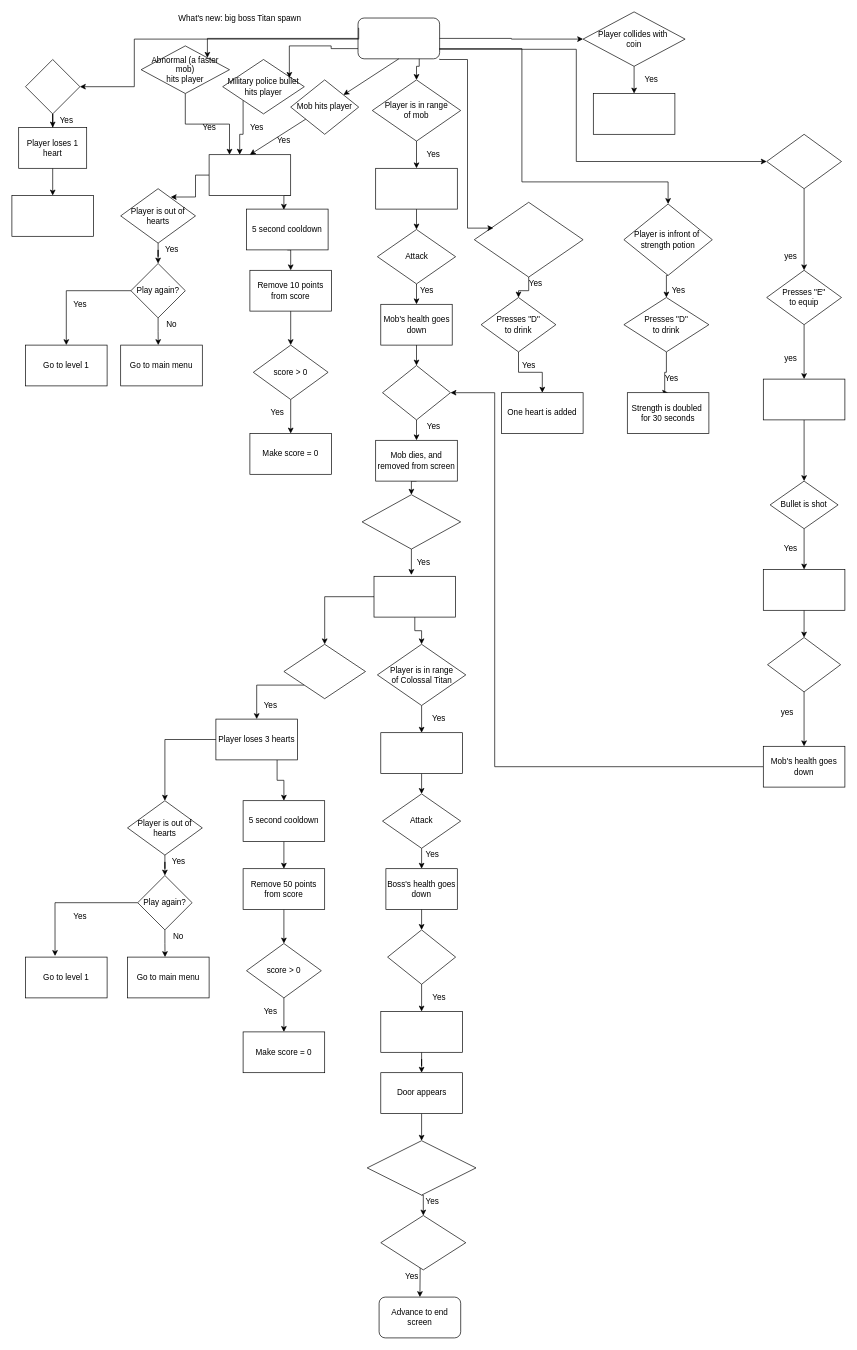
Image size: 857x1350. Some labels were removed from this diagram. The box of each missing label's shape, as (x1, y1, x2, y2) in pixels:
10 second cooldown to get out of lava: (11, 195, 94, 236)
Boss Colossal Titan spawn: (373, 576, 456, 617)
Boss dies, and removed from screen: (380, 1011, 462, 1052)
Boss's health <= 0?: (387, 929, 456, 984)
Bullet count reduces by 1: (763, 569, 845, 610)
Bullet hits mob: (767, 637, 841, 692)
Colossal Titan hits player: (283, 644, 366, 699)
Mob health <= 0?: (382, 365, 451, 420)
Mobs are all cleared: (361, 494, 461, 549)
Player is able to attack Boss: (380, 732, 462, 774)
Player is able to attack mob: (375, 168, 457, 209)
Player is infront of door: (367, 1140, 476, 1195)
Player is infront of gun: (766, 134, 842, 189)
Player is infront of health potion: (474, 202, 583, 277)
Player loses one heart: (208, 154, 291, 196)
Player touches lava block: (25, 59, 80, 114)
Player will be able to shoot 10 times: (763, 378, 845, 420)
Presses "A" to advance: (380, 1215, 466, 1270)
Remove coin from screen and add to score: (593, 93, 675, 134)
Start level 6: (357, 17, 440, 59)
